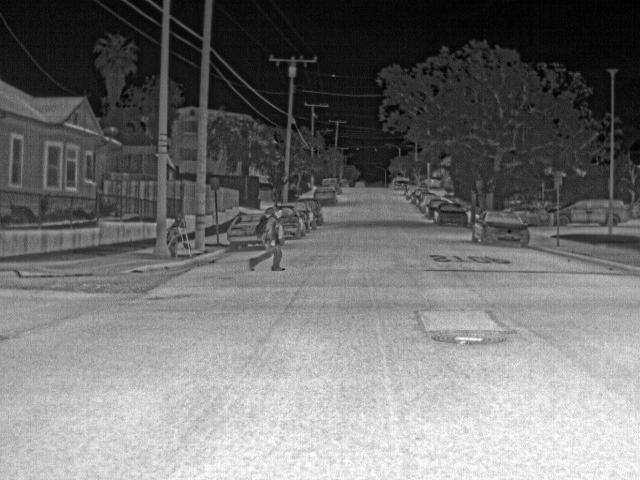car: (473, 209, 532, 249), (561, 198, 609, 228), (227, 212, 257, 247), (439, 201, 469, 225), (286, 204, 303, 238), (611, 199, 629, 227), (301, 198, 314, 230), (426, 197, 444, 218), (417, 192, 434, 214), (316, 186, 335, 204), (312, 198, 324, 226), (324, 176, 341, 194), (410, 190, 428, 206), (393, 177, 412, 191), (405, 184, 420, 198), (338, 177, 351, 190)
person: (257, 206, 286, 274)
